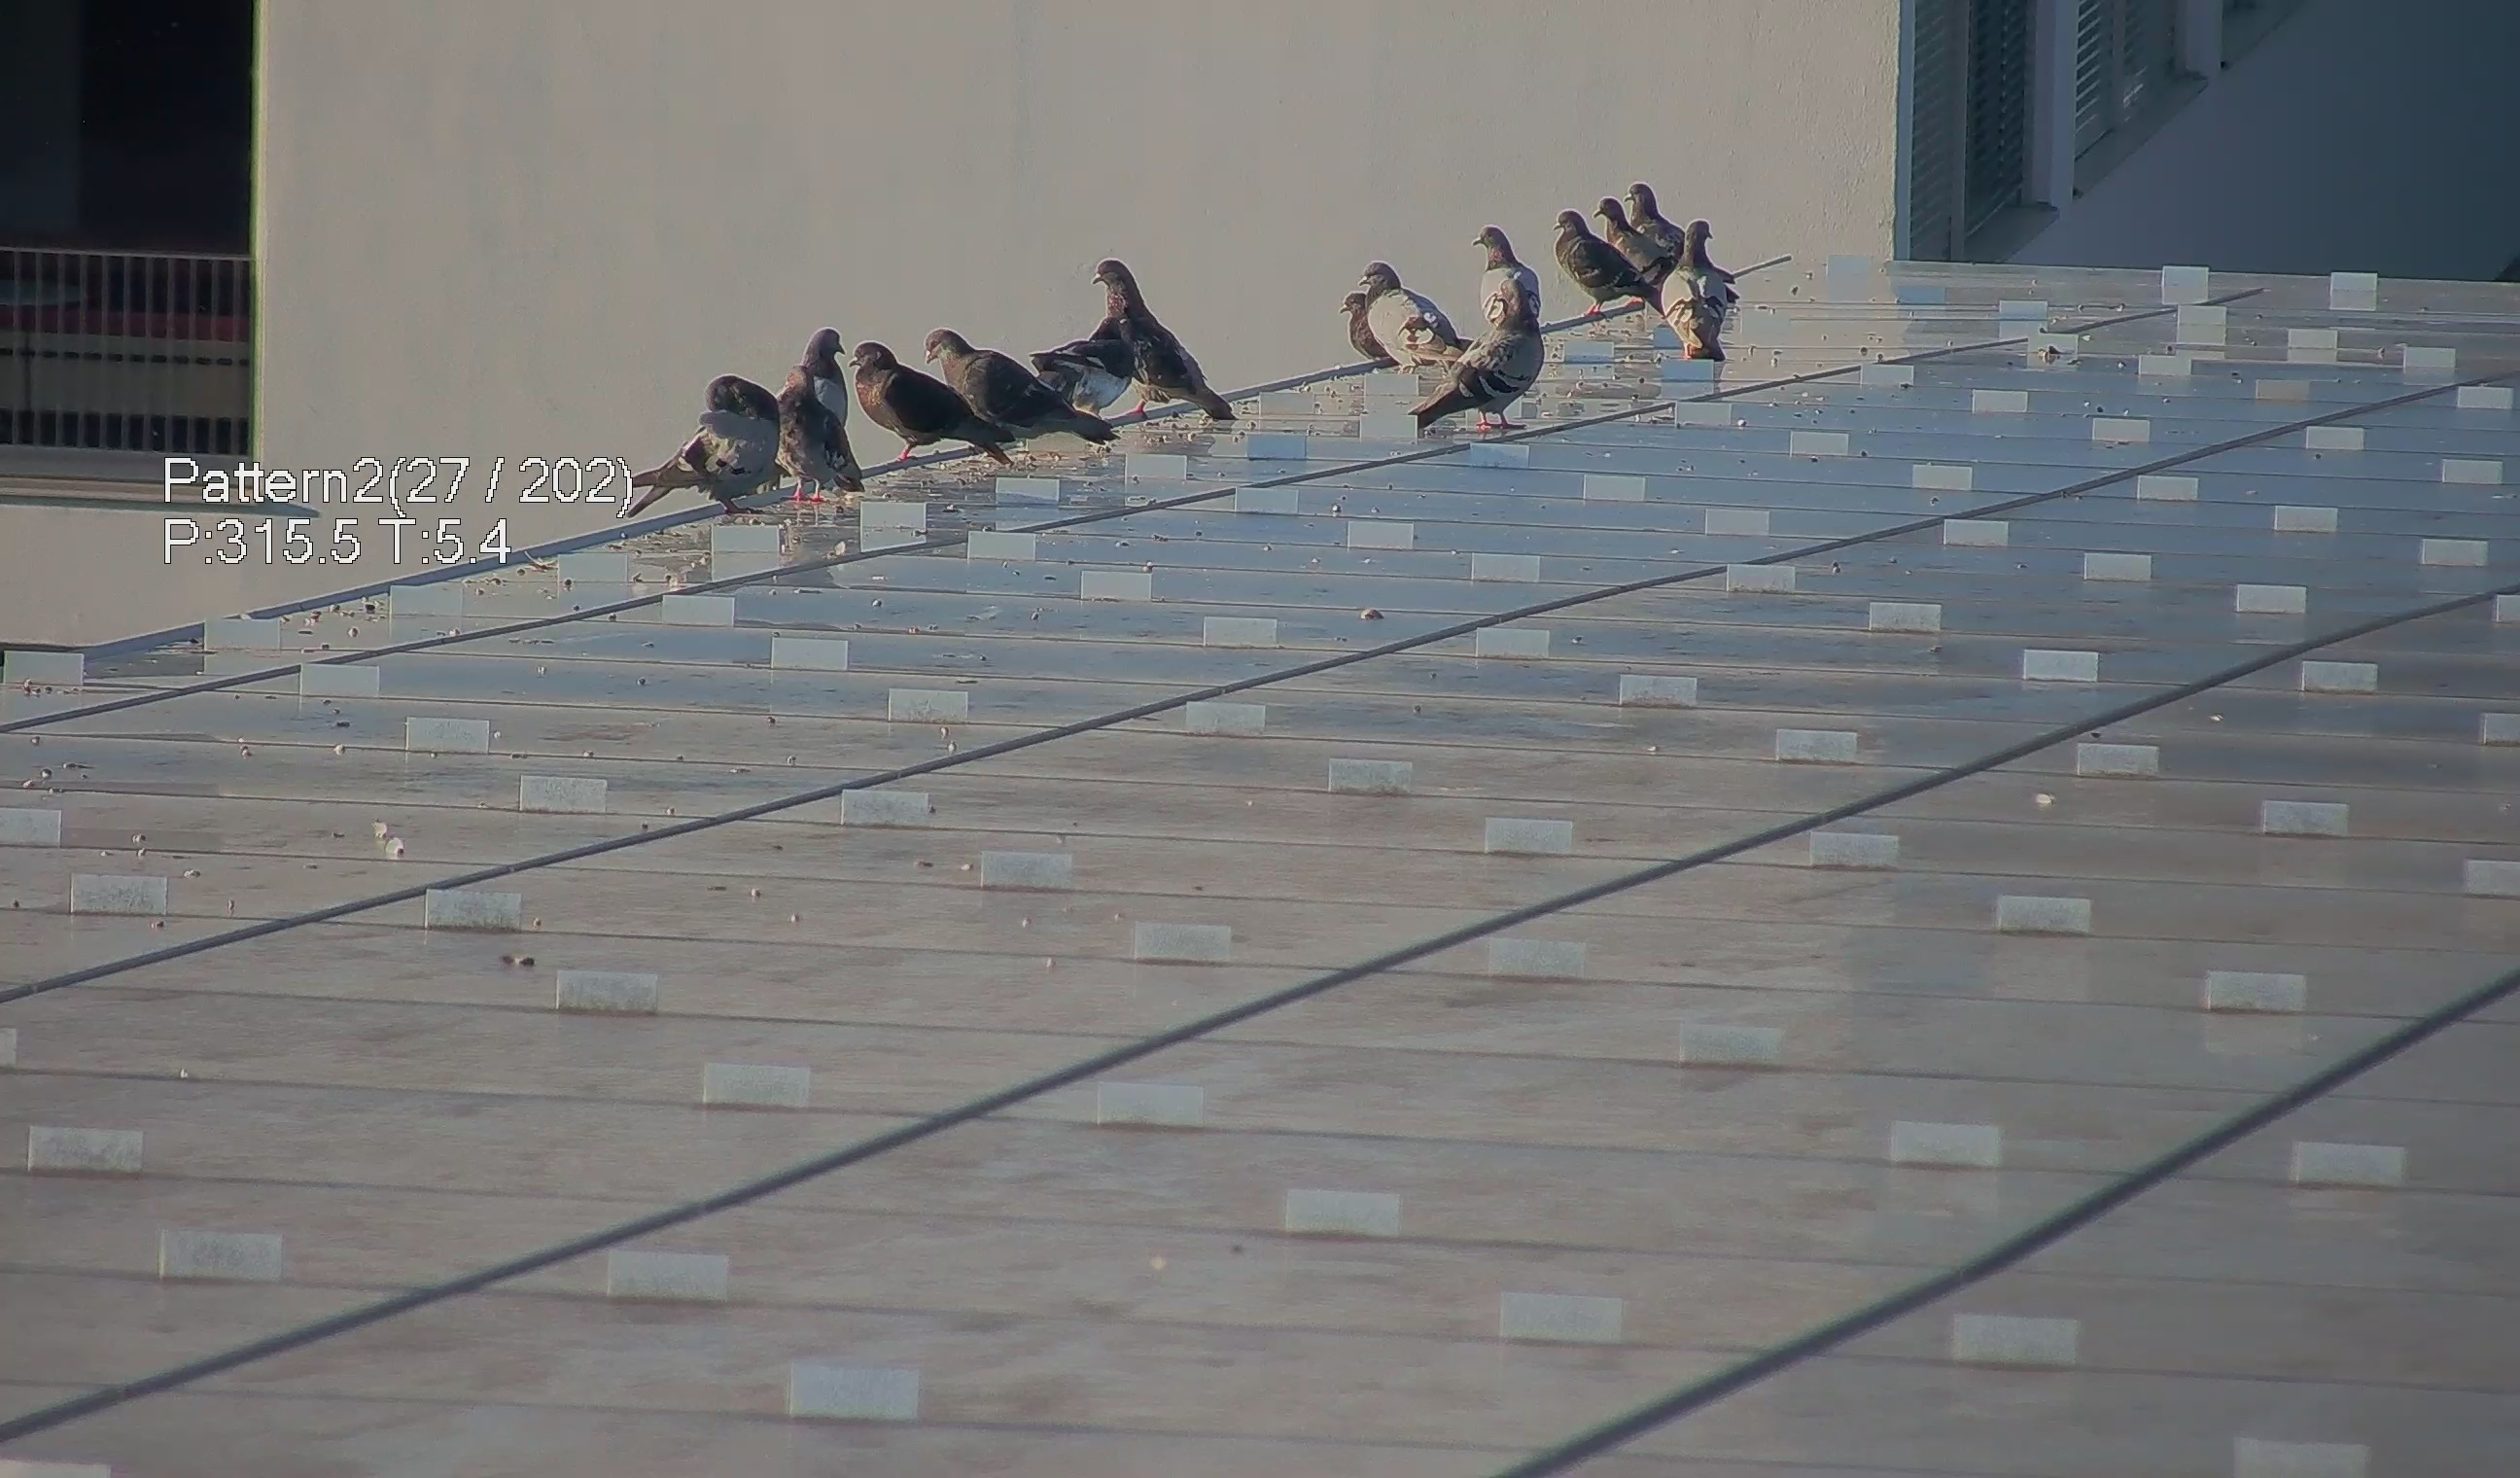Pigeon: (923, 324, 1120, 445), (1099, 253, 1229, 429), (638, 371, 781, 524), (848, 340, 1013, 465), (1421, 282, 1544, 426), (772, 362, 863, 509), (1363, 255, 1468, 368), (1549, 208, 1658, 308), (1032, 315, 1129, 419), (1662, 218, 1725, 366), (1472, 218, 1542, 327), (1590, 192, 1667, 274), (1621, 174, 1686, 253), (802, 322, 849, 419), (1338, 285, 1386, 364)
